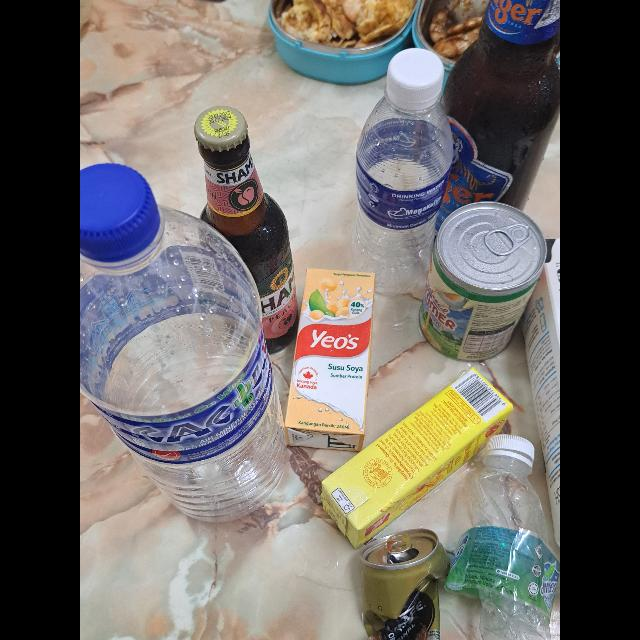aba de lata: (483, 224, 531, 256), (386, 532, 412, 554)
caixinha: (322, 367, 512, 553), (286, 270, 374, 454), (524, 239, 560, 549)
garrafa de vidro: (193, 106, 299, 354), (439, 0, 559, 212)
garrafa plástica: (80, 206, 288, 522), (442, 456, 560, 640), (354, 97, 454, 295), (357, 528, 449, 640)
lata: (419, 202, 547, 360)
tampa plástica: (80, 162, 160, 262), (388, 48, 444, 102), (484, 434, 534, 470)
